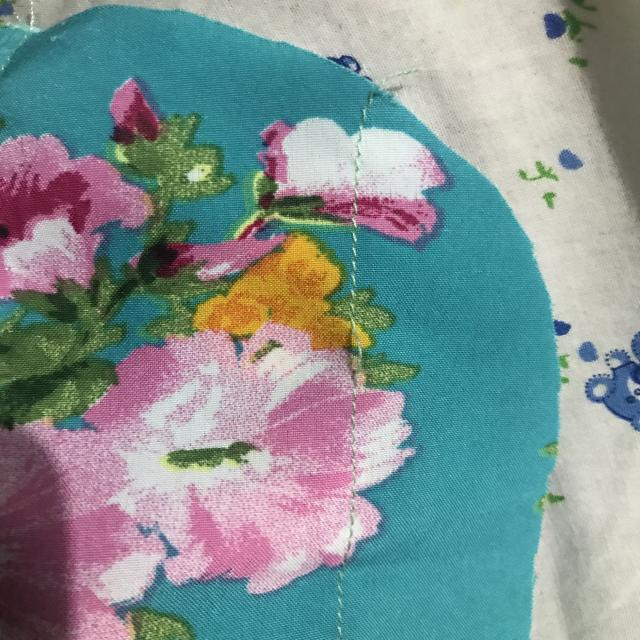good: (342, 231, 372, 278)
skip: (343, 306, 393, 400)
